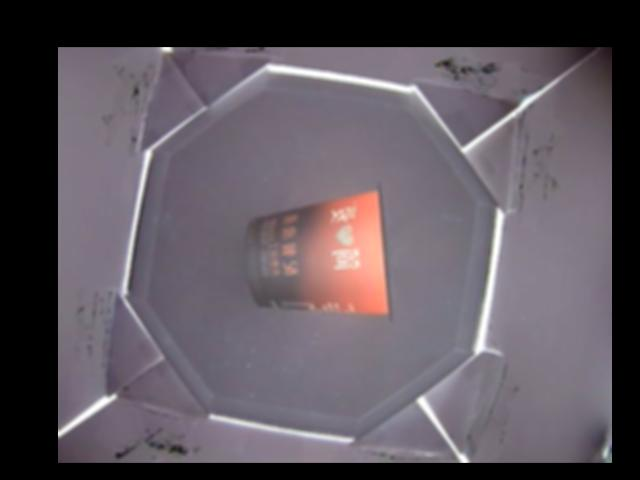Cup: (246, 184, 396, 318)
